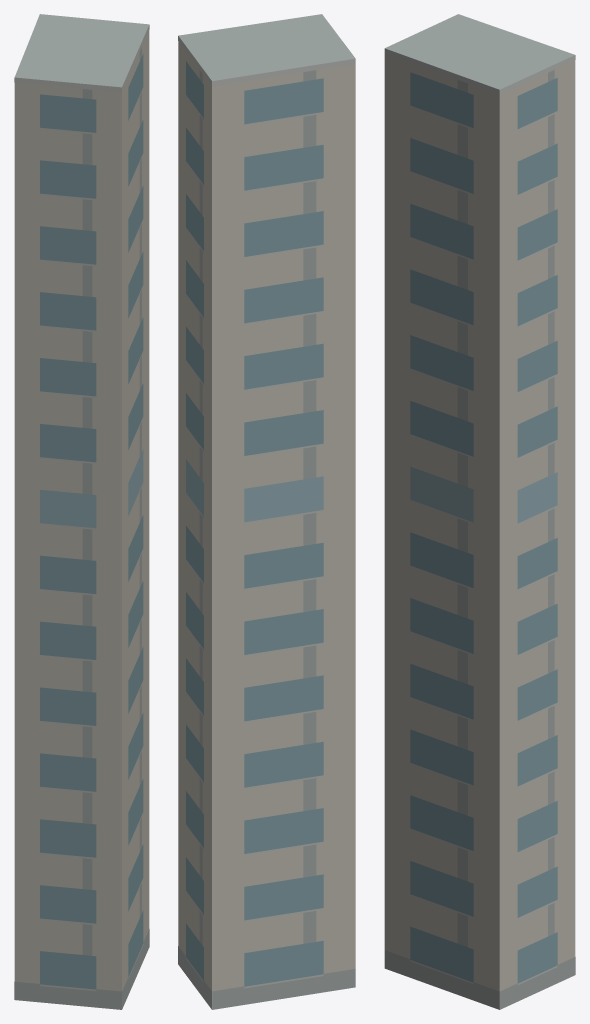
Rendered from survey-upis-32745474.glb.
3 renders of one model, left to right at view 1: azimuth 30°, elevation 25°; view 2: azimuth 150°, elevation 25°; view 3: azimuth 270°, elevation 25°, orthographic.
Parts seen in each view (by area): view 1: survey-upis-32745474.tmp; view 2: survey-upis-32745474.tmp; view 3: survey-upis-32745474.tmp.
Part boxes in pixels (x1,y1,x2,y2): survey-upis-32745474.tmp: [14, 14, 149, 1009]; survey-upis-32745474.tmp: [178, 14, 355, 1009]; survey-upis-32745474.tmp: [384, 14, 575, 1009].
Bounding box in the file's own units: 7.55 × 42.7 × 8.03.
